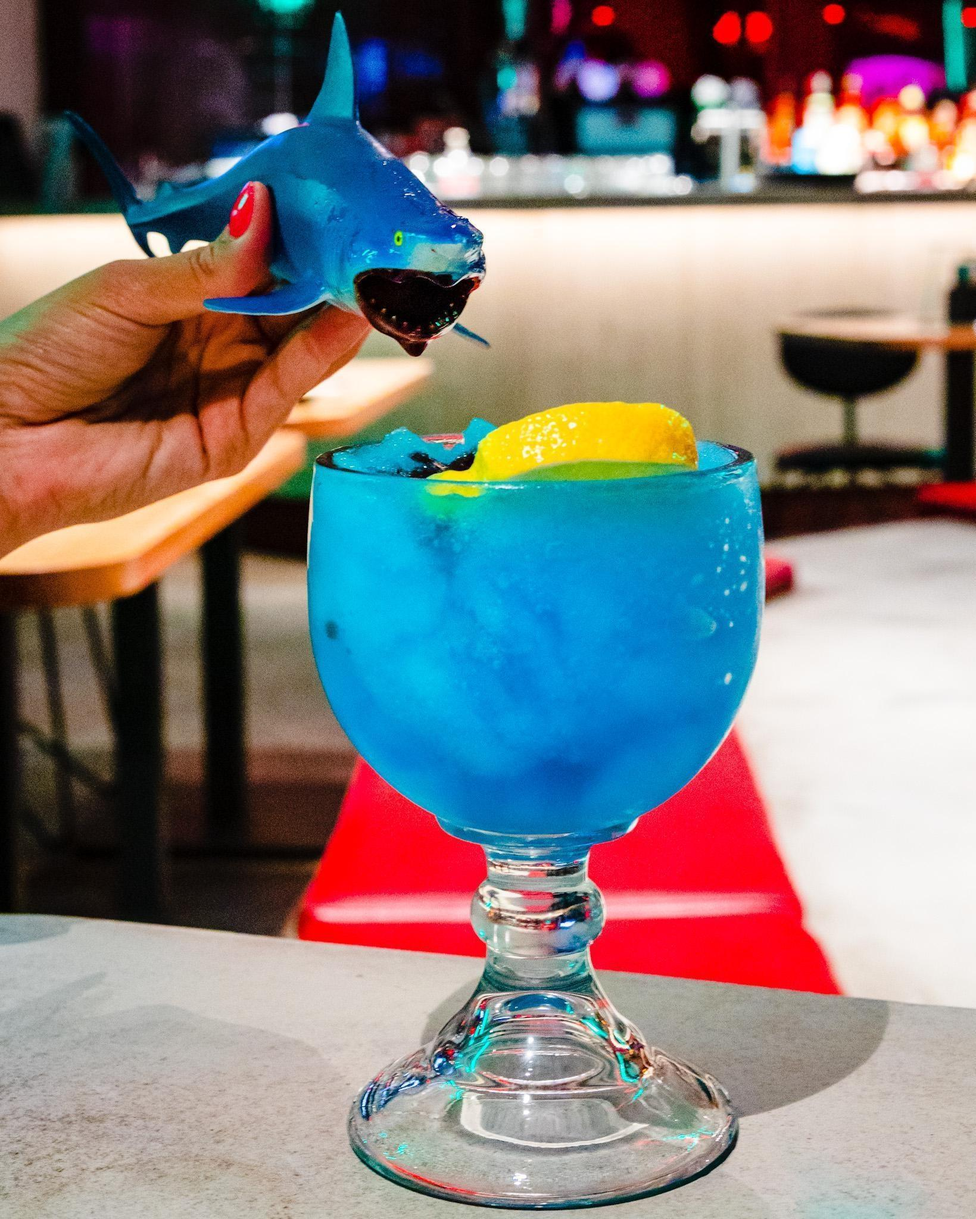glass-wine: (304, 426, 769, 1211)
